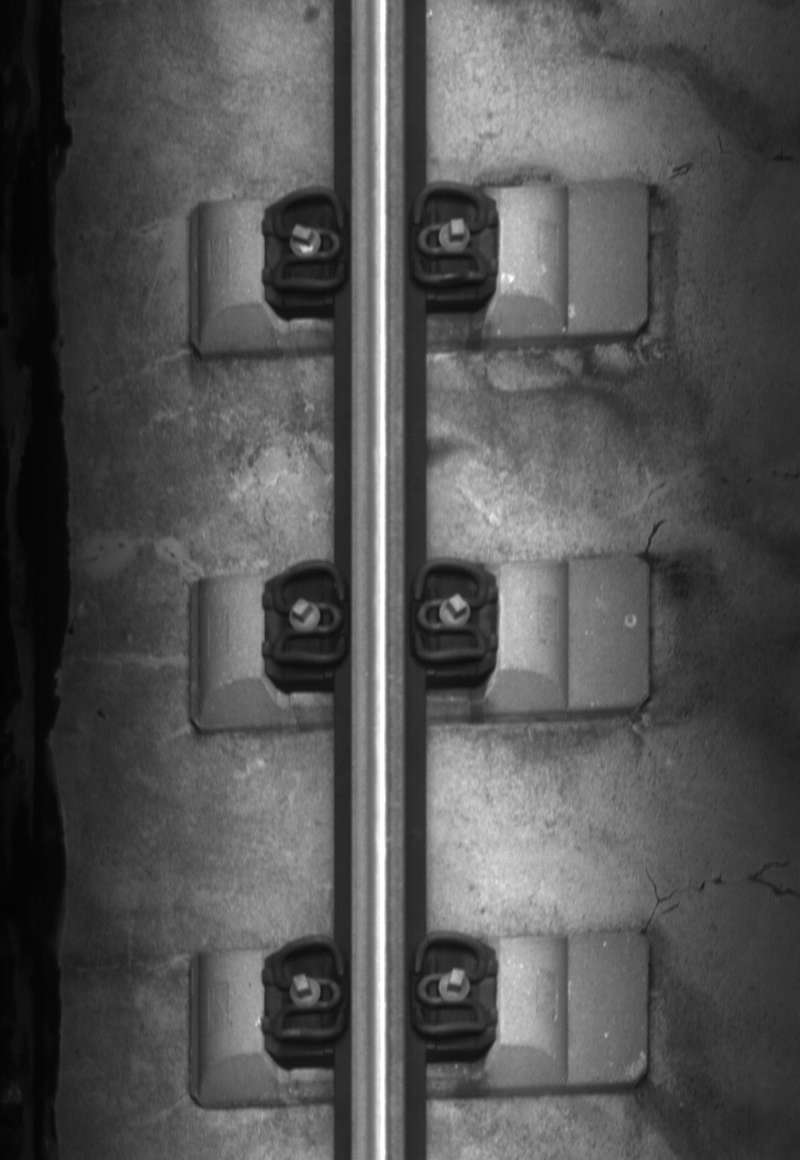l_faster: (267, 931, 350, 1047), (266, 182, 350, 295), (267, 558, 351, 668)
r_faster: (410, 556, 491, 667), (410, 180, 491, 290), (410, 930, 491, 1039)
